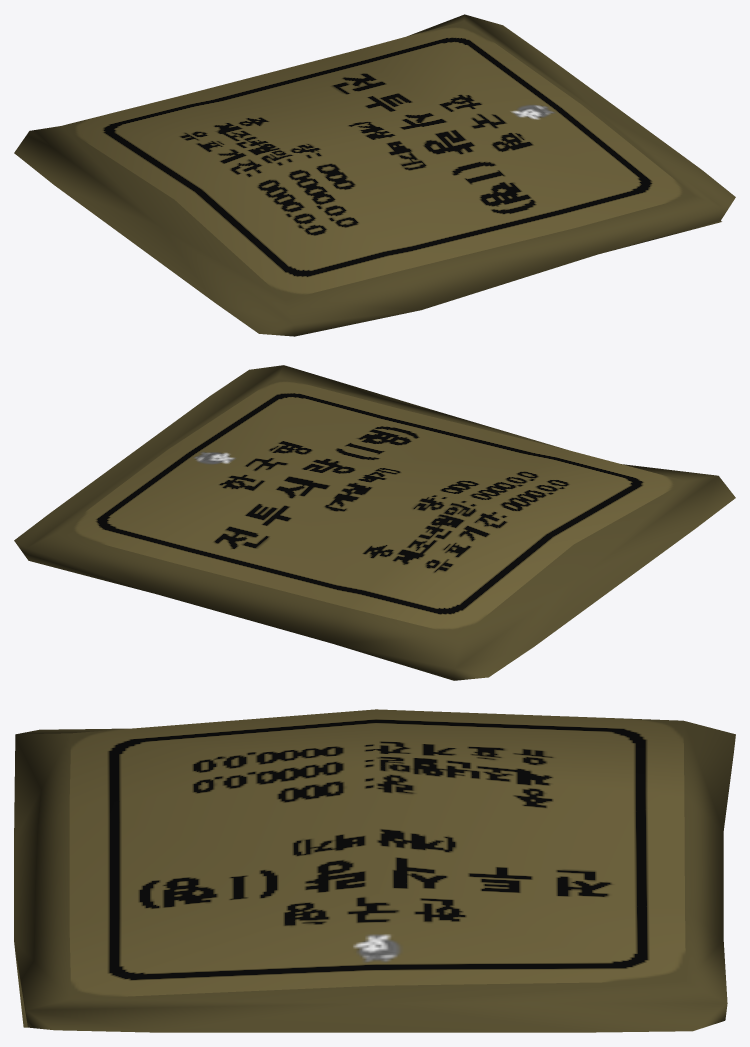
File: Karmymainfood.fbx
3 views of the same model, one above another, from view 1: azimuth 30°, elevation 25°; view 2: azimuth 150°, elevation 25°; view 3: azimuth 270°, elevation 25° (orthographic). The views are drawn at different scales.
Visible parts, largest first — view 1: Chips001; view 2: Chips001; view 3: Chips001.
Part boxes in pixels (<box>): Chips001: <box>14,14,735,336</box>; Chips001: <box>14,365,735,680</box>; Chips001: <box>14,709,735,1032</box>.
Size of the model in its own units: 47.93 by 6.04 by 45.18.
